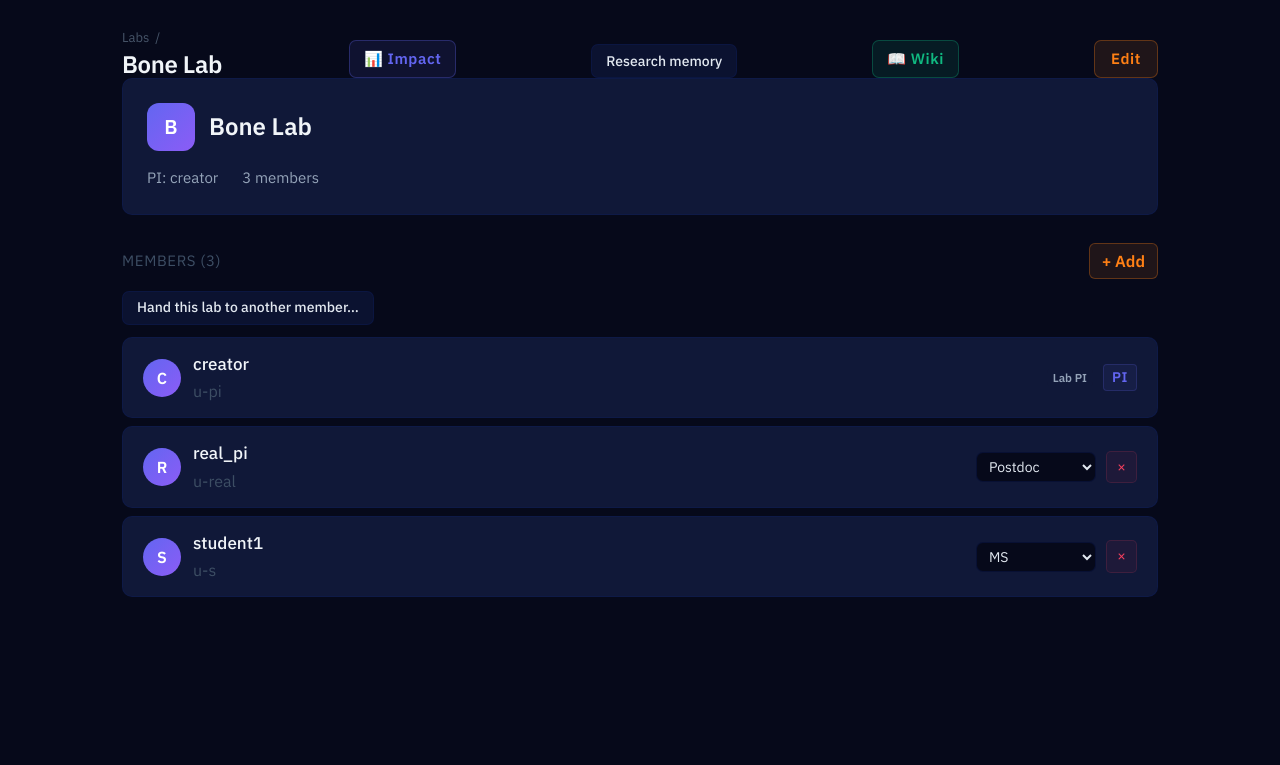
Test: LabDetail — handover honesty and labs with no PI on record › when only the second step fails, it says the lab WAS handed over
Click the button "Hand this lab to another member…": (248, 308) [122, 291, 374, 325]
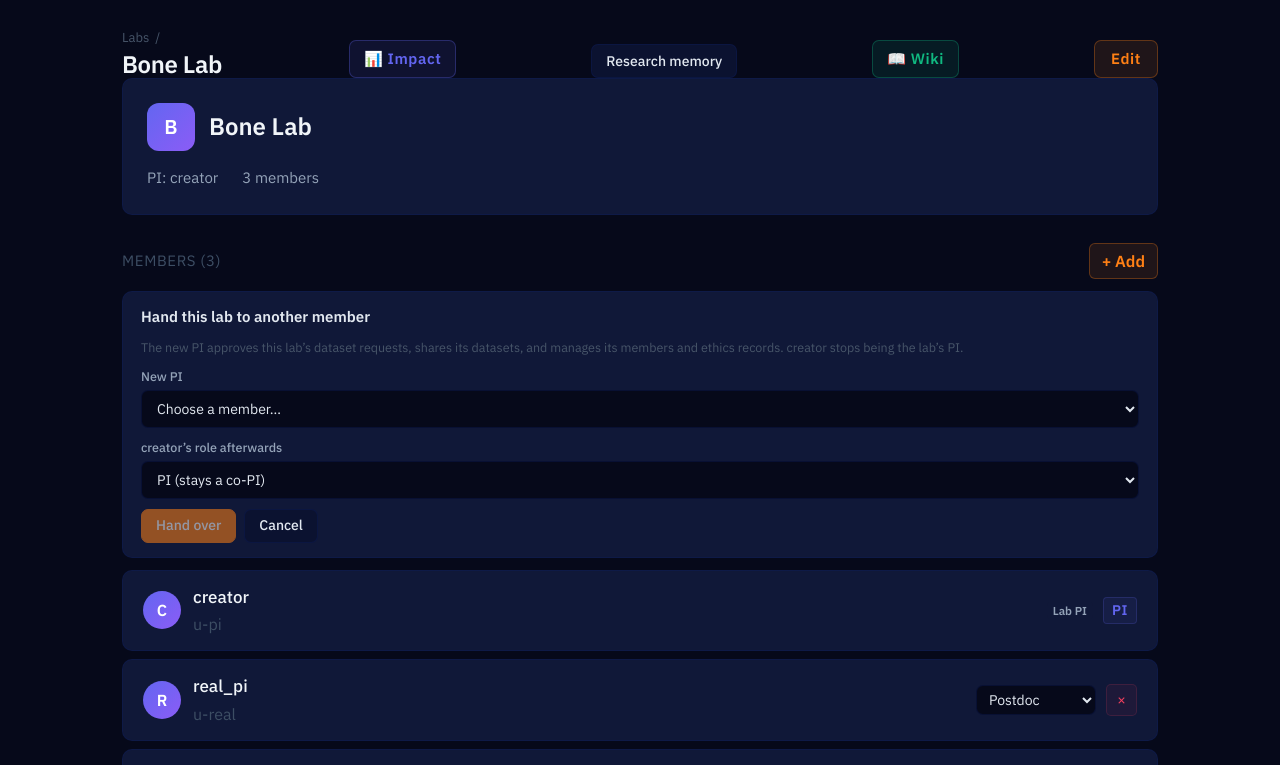
Select "real_pi (postdoc)" in the dropdown labelled "New PI": (640, 409) [141, 390, 1139, 428]
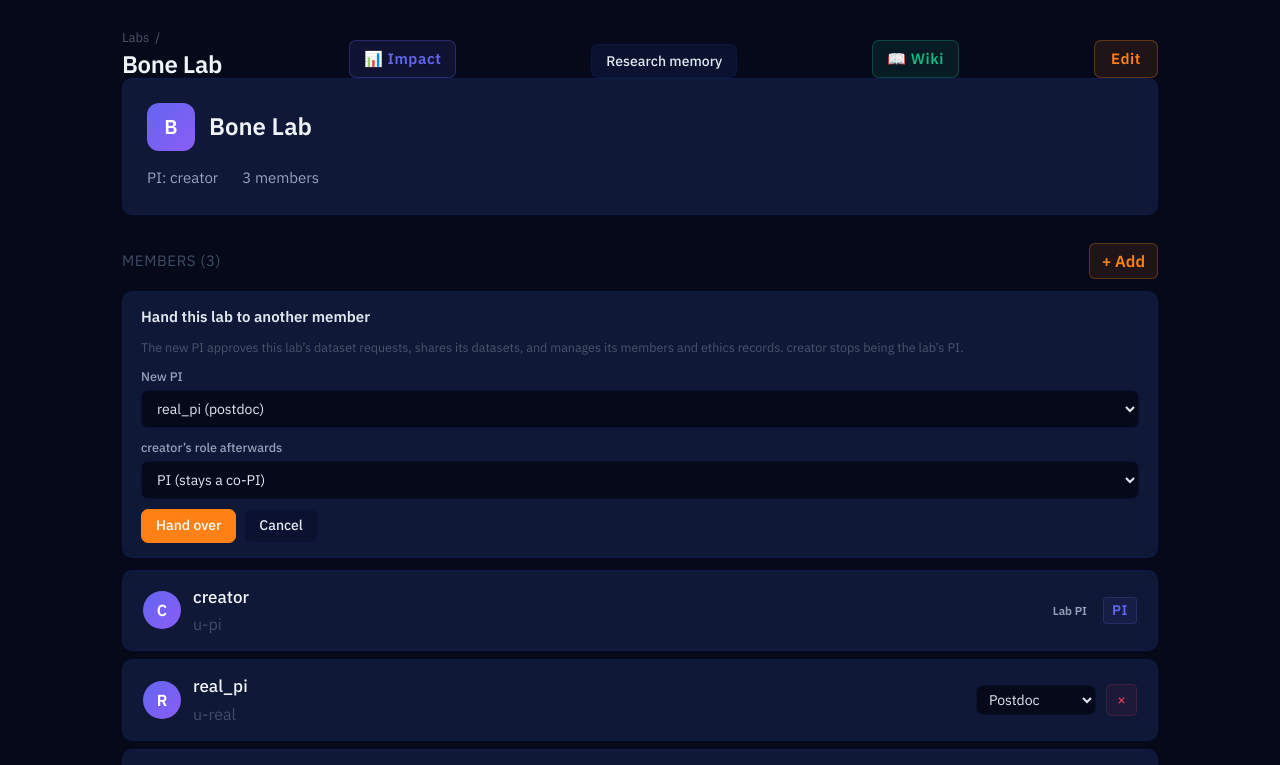
Select "Postdoc" in the dropdown named "Former PI role": (640, 480) [141, 460, 1139, 498]
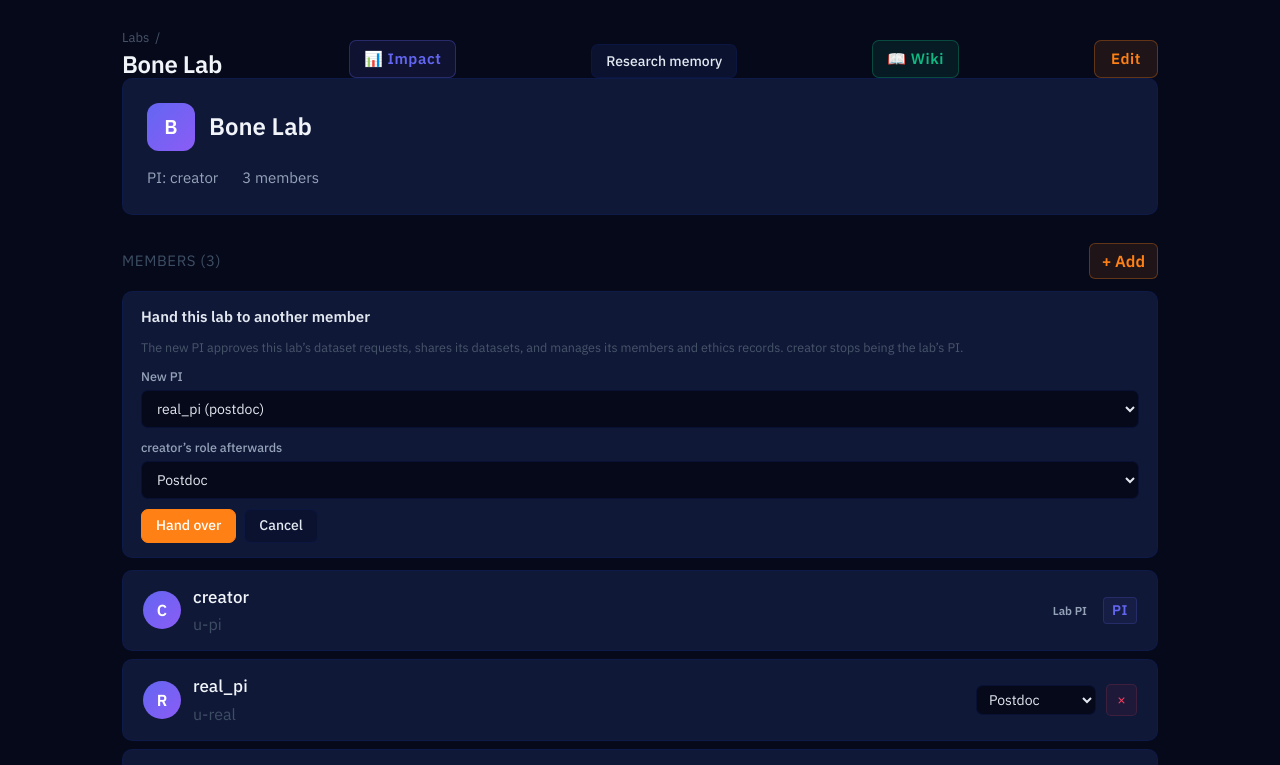
Click the button "Hand over": (189, 526) [141, 508, 236, 542]
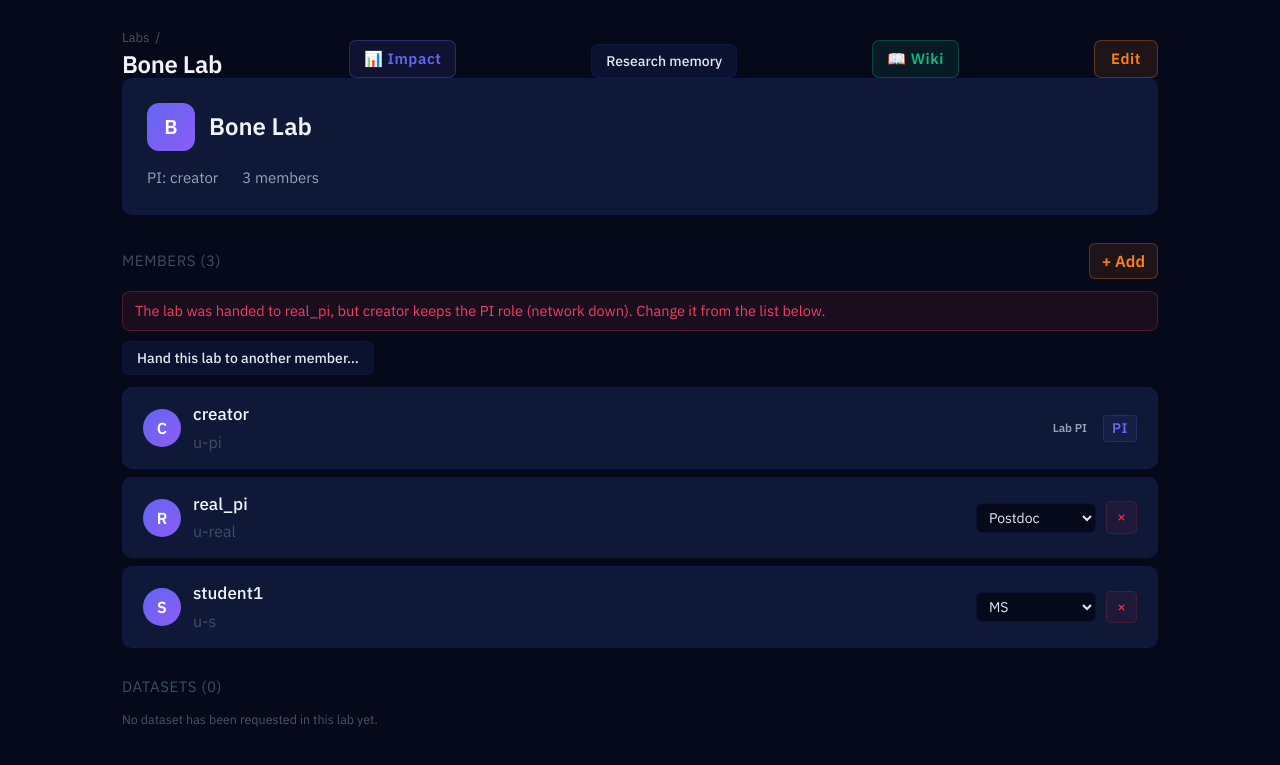
Now the message shows "The lab was handed to real_pi, but creator keeps the PI role", box [135, 301, 825, 320]
